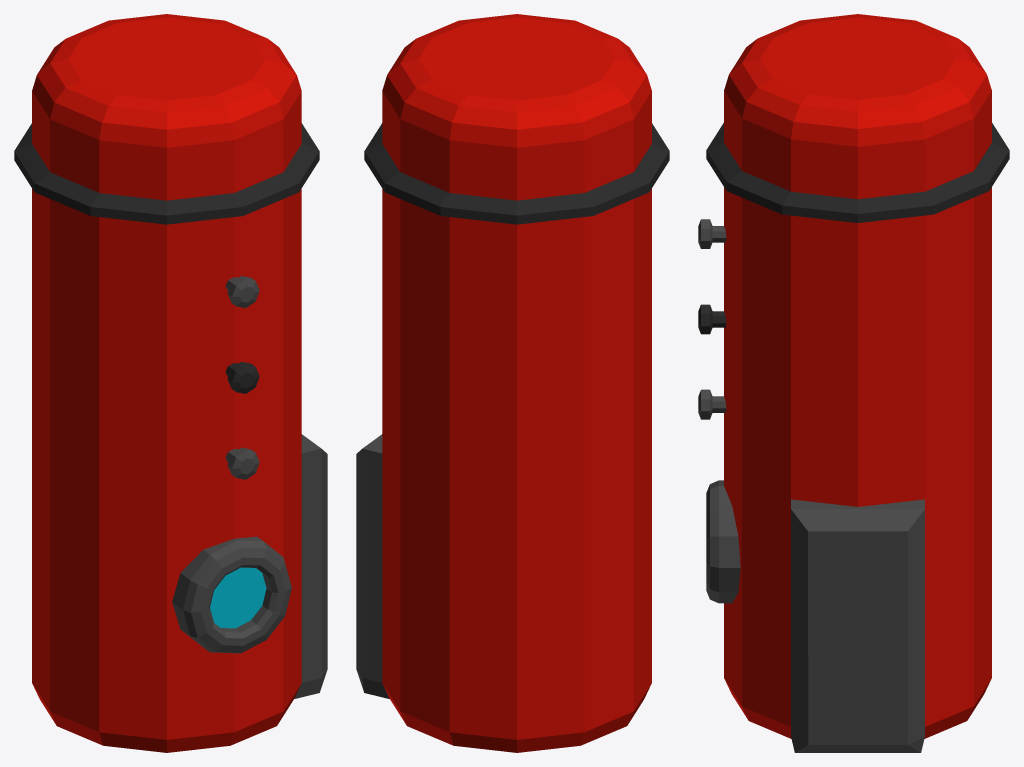
Rendered from Watertank.fbx.
The picture shows the model from 3 angles, left to right: view 1: azimuth 30°, elevation 25°; view 2: azimuth 150°, elevation 25°; view 3: azimuth 270°, elevation 25°; orthographic projection.
Parts seen in each view (by area): view 1: WaterTank; view 2: WaterTank; view 3: WaterTank.
Part boxes in pixels (x1,y1,x2,y2): WaterTank: (14,14,327,752); WaterTank: (356,14,669,752); WaterTank: (698,14,1009,752).
Size of the model in its own units: 78.16 by 180 by 79.16.
